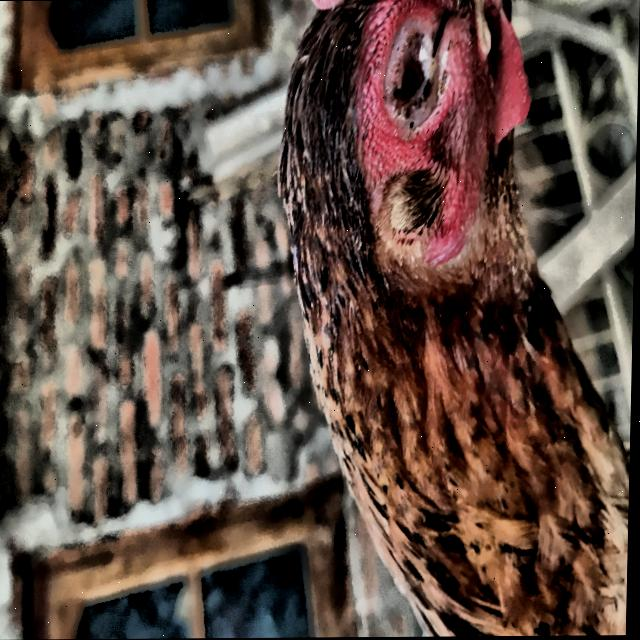Coryza: (248, 0, 640, 638)
